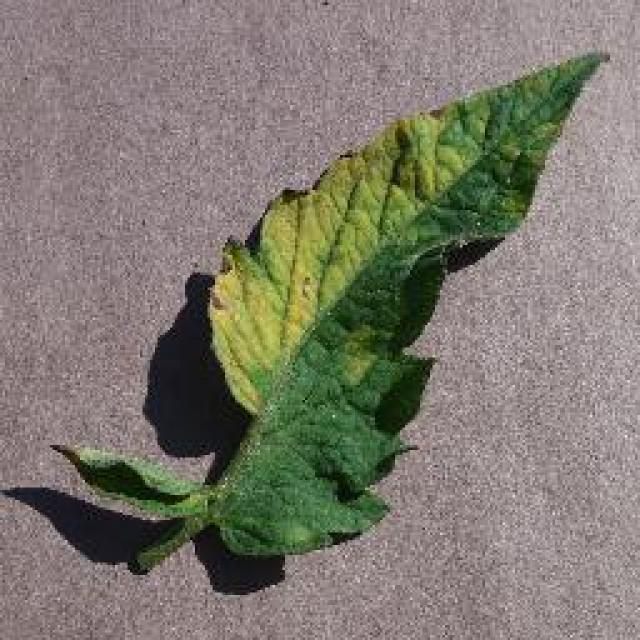Tomato mold leaf: (201, 46, 614, 556)
